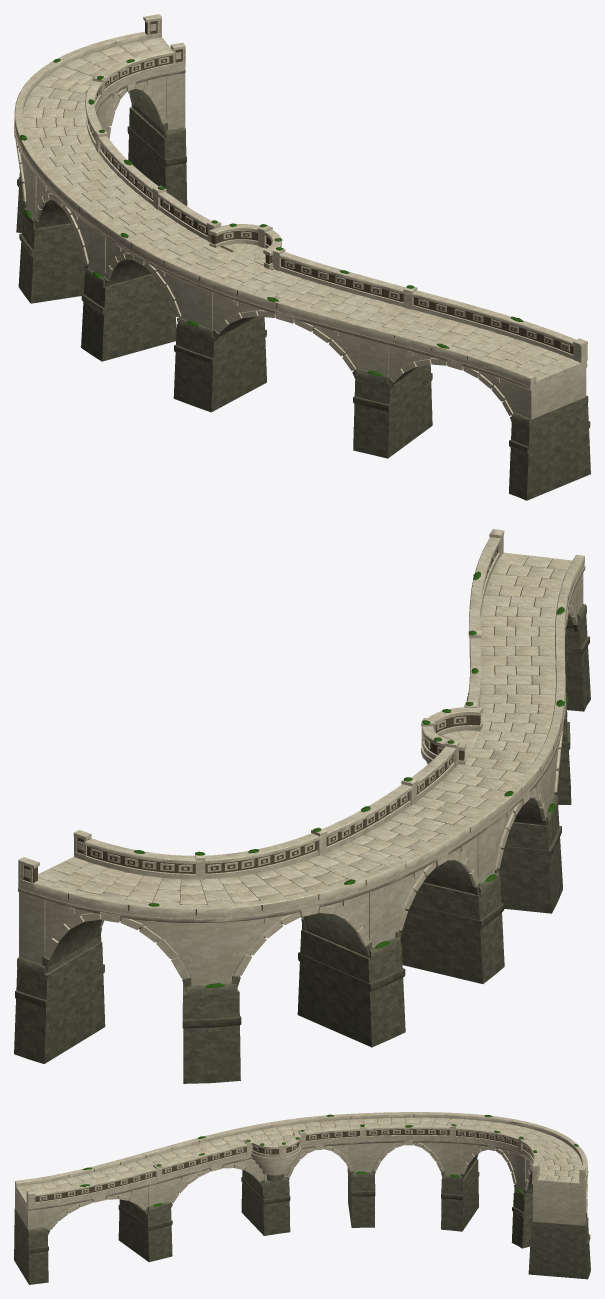
3 views of the same model, one above another, from view 1: azimuth 30°, elevation 25°; view 2: azimuth 150°, elevation 25°; view 3: azimuth 270°, elevation 25° (orthographic). The views are drawn at different scales.
Parts seen in each view (by area): view 1: Mesh_ViaductLimestone, Mesh_ViaductDampMasonry, Mesh_ViaductCarvedGrout, Mesh_ViaductMossCushions; view 2: Mesh_ViaductLimestone, Mesh_ViaductDampMasonry, Mesh_ViaductCarvedGrout, Mesh_ViaductMossCushions; view 3: Mesh_ViaductLimestone, Mesh_ViaductDampMasonry, Mesh_ViaductCarvedGrout, Mesh_ViaductMossCushions.
Boxes of the visible parts, box(x1,y1,x2,y2) form: Mesh_ViaductLimestone: box(14, 14, 587, 419); Mesh_ViaductDampMasonry: box(16, 88, 590, 500); Mesh_ViaductCarvedGrout: box(17, 21, 573, 370); Mesh_ViaductMossCushions: box(20, 58, 523, 376); Mesh_ViaductLimestone: box(18, 529, 585, 985); Mesh_ViaductDampMasonry: box(14, 604, 590, 1083); Mesh_ViaductCarvedGrout: box(23, 547, 568, 915); Mesh_ViaductMossCushions: box(134, 571, 568, 987); Mesh_ViaductLimestone: box(15, 1112, 588, 1230); Mesh_ViaductDampMasonry: box(14, 1142, 590, 1284); Mesh_ViaductCarvedGrout: box(35, 1114, 573, 1202); Mesh_ViaductMossCushions: box(79, 1114, 578, 1206).
Size of the model in its own units: 11.03 by 6.75 by 32.45.
4 materials, 4 textured.
